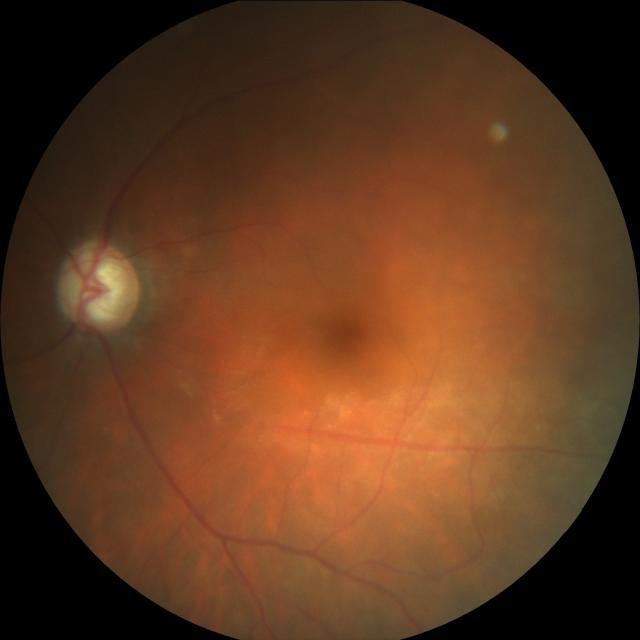OC: (69, 254, 126, 321)
OD: (54, 239, 139, 333)
